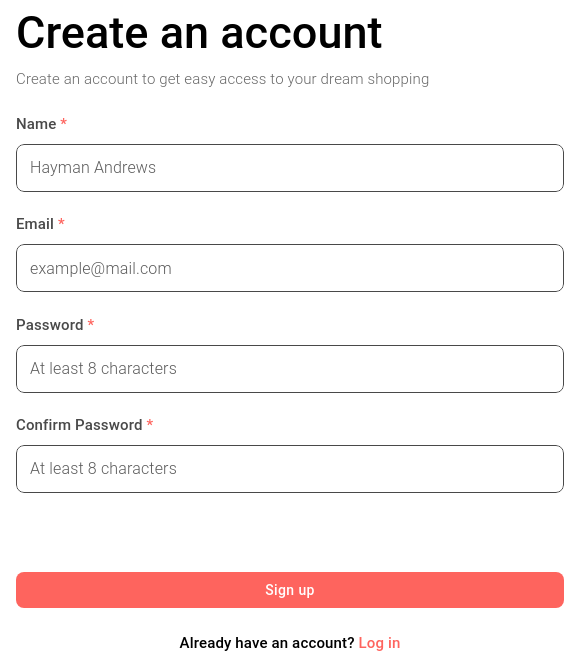
Test case: SignUp Page › validates mismatched passwords
Step 1. Type "John Doe" into the field labelled "Name" → (290, 168), box [16, 140, 564, 196]
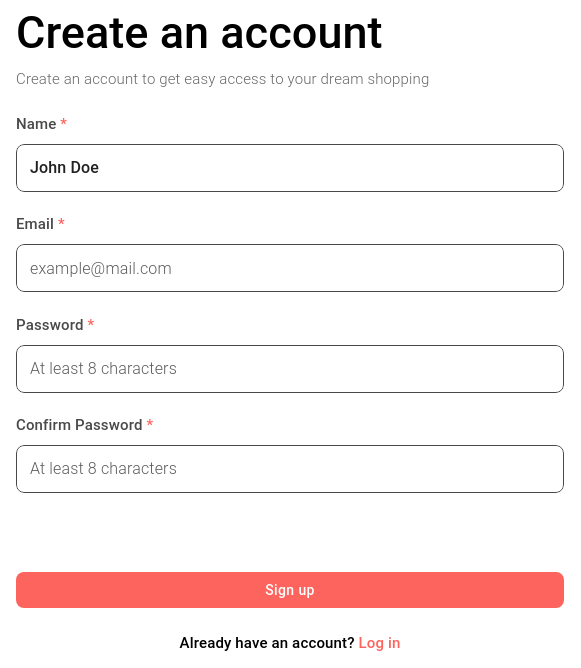
Step 2. Type "user@mail.com" into the field labelled "Email" → (290, 268), box [16, 240, 564, 296]
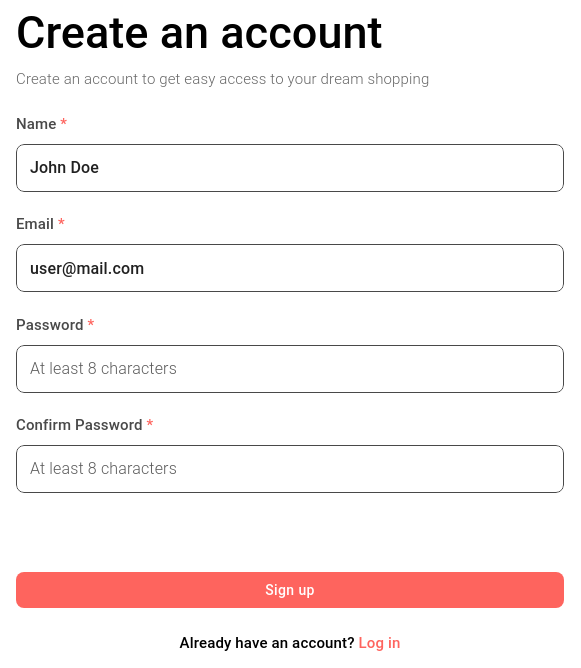
Step 3. Type "12345678" into the password field labelled "Password" → (290, 368), box [16, 340, 564, 396]
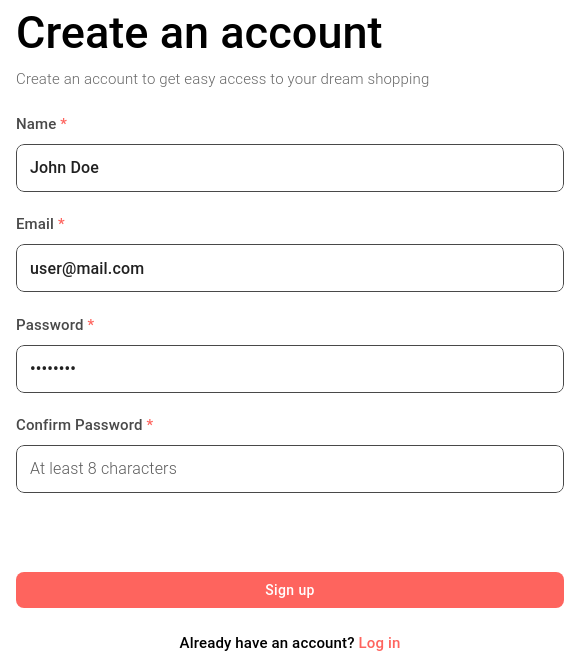
Step 4. Type "wrongpass" into the password field labelled "Confirm Password" → (290, 469), box [16, 441, 564, 497]
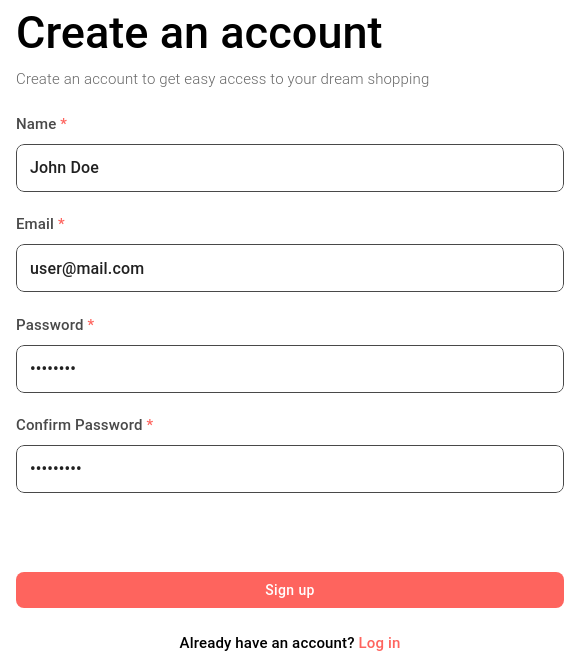
Step 5. Click the button "Sign up" → (290, 590), box [16, 572, 564, 608]
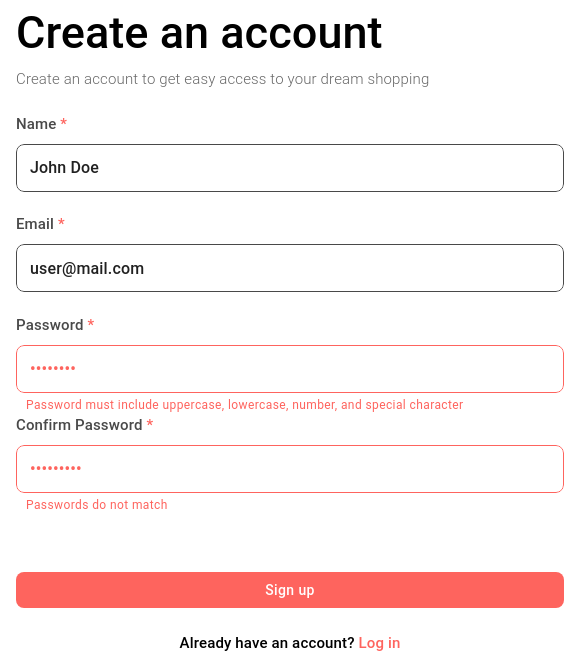
expect the text "Passwords do not match" is shown: met, box [26, 498, 168, 512]
